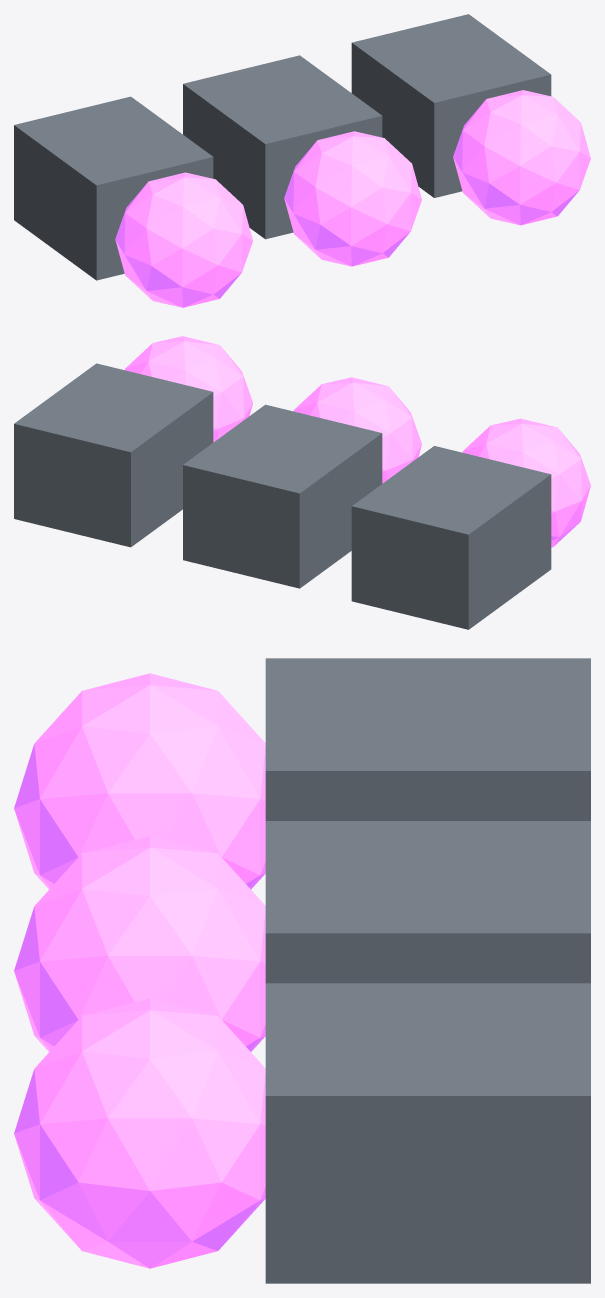
File: magicata_04.glb
3 renders of one model, top to bottom at view 1: azimuth 30°, elevation 25°; view 2: azimuth 150°, elevation 25°; view 3: azimuth 270°, elevation 25°, orthographic. The views are drawn at different scales.
Parts seen in each view (by area): view 1: bot_body0, bot_body2, bot_body1, bot_head0, bot_head2, bot_head1; view 2: bot_body0, bot_body1, bot_body2, bot_head0, bot_head2, bot_head1; view 3: bot_body2, bot_head2, bot_body0, bot_body1, bot_head0, bot_head1.
Part boxes in pixels (box(x1,y1,x2,y2)): bot_body0: box(14, 96, 213, 280); bot_body2: box(351, 14, 551, 197); bot_body1: box(183, 55, 382, 239); bot_head0: box(115, 172, 252, 307); bot_head2: box(453, 90, 590, 225); bot_head1: box(284, 131, 421, 266); bot_body0: box(351, 446, 551, 629); bot_body1: box(183, 404, 382, 588); bot_body2: box(14, 363, 213, 547); bot_head0: box(462, 418, 590, 547); bot_head2: box(125, 336, 252, 442); bot_head1: box(293, 377, 421, 483); bot_body2: box(265, 983, 590, 1283); bot_head2: box(14, 998, 265, 1268); bot_body0: box(265, 658, 590, 820); bot_body1: box(265, 821, 590, 983); bot_head0: box(14, 673, 265, 889); bot_head1: box(14, 836, 265, 1051).
Bounding box in the file's own units: 1.76 × 0.46 × 0.975.
